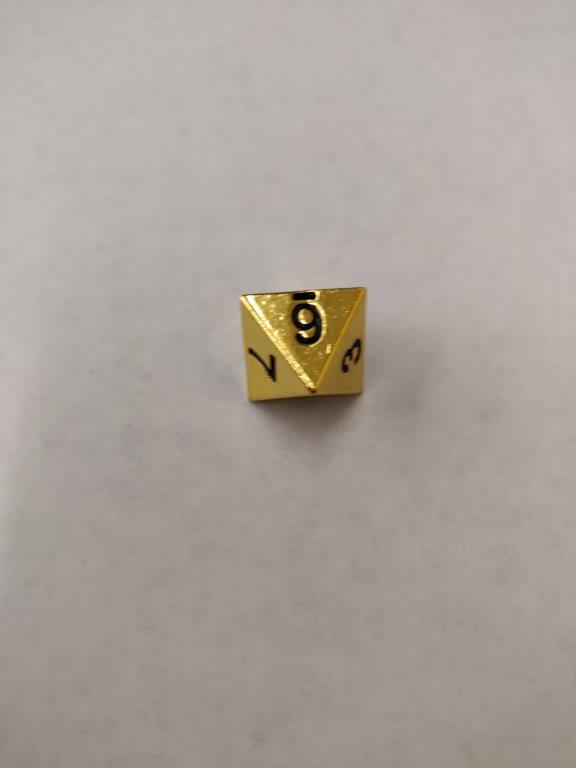d8-6: (241, 284, 367, 400)
